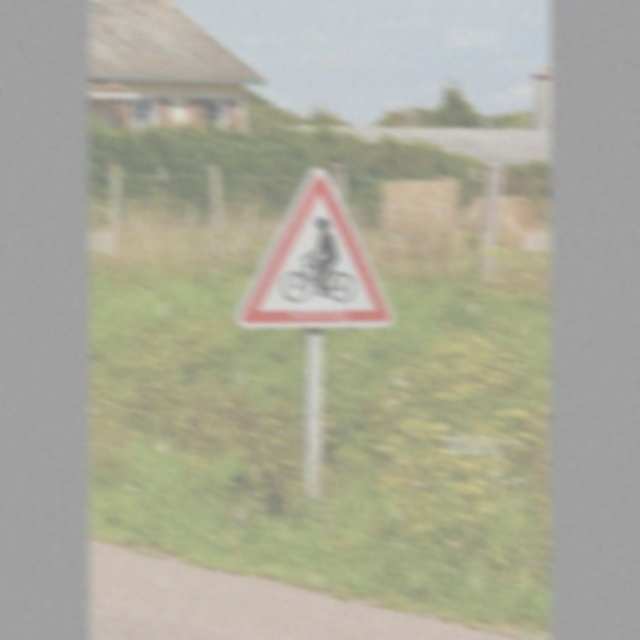Cycle_Crossing: (248, 171, 394, 334)
